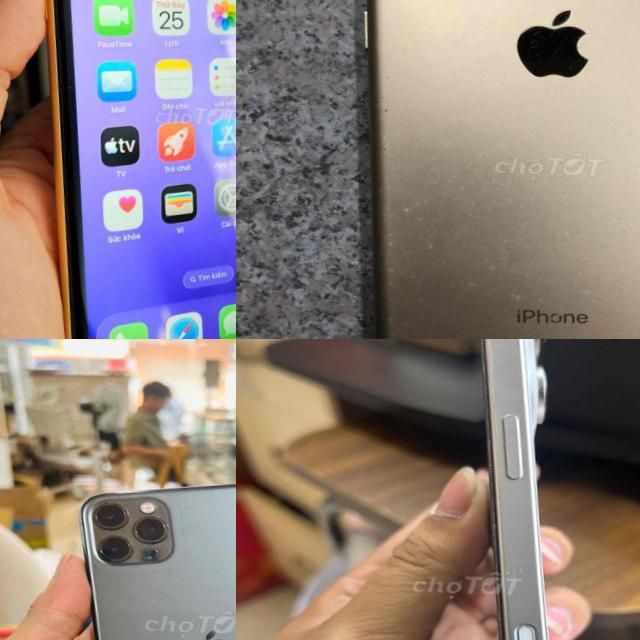gen_11: (7, 0, 236, 339), (70, 467, 236, 640)
gen_16: (480, 339, 547, 640)
gen_7_8: (327, 0, 640, 339)
